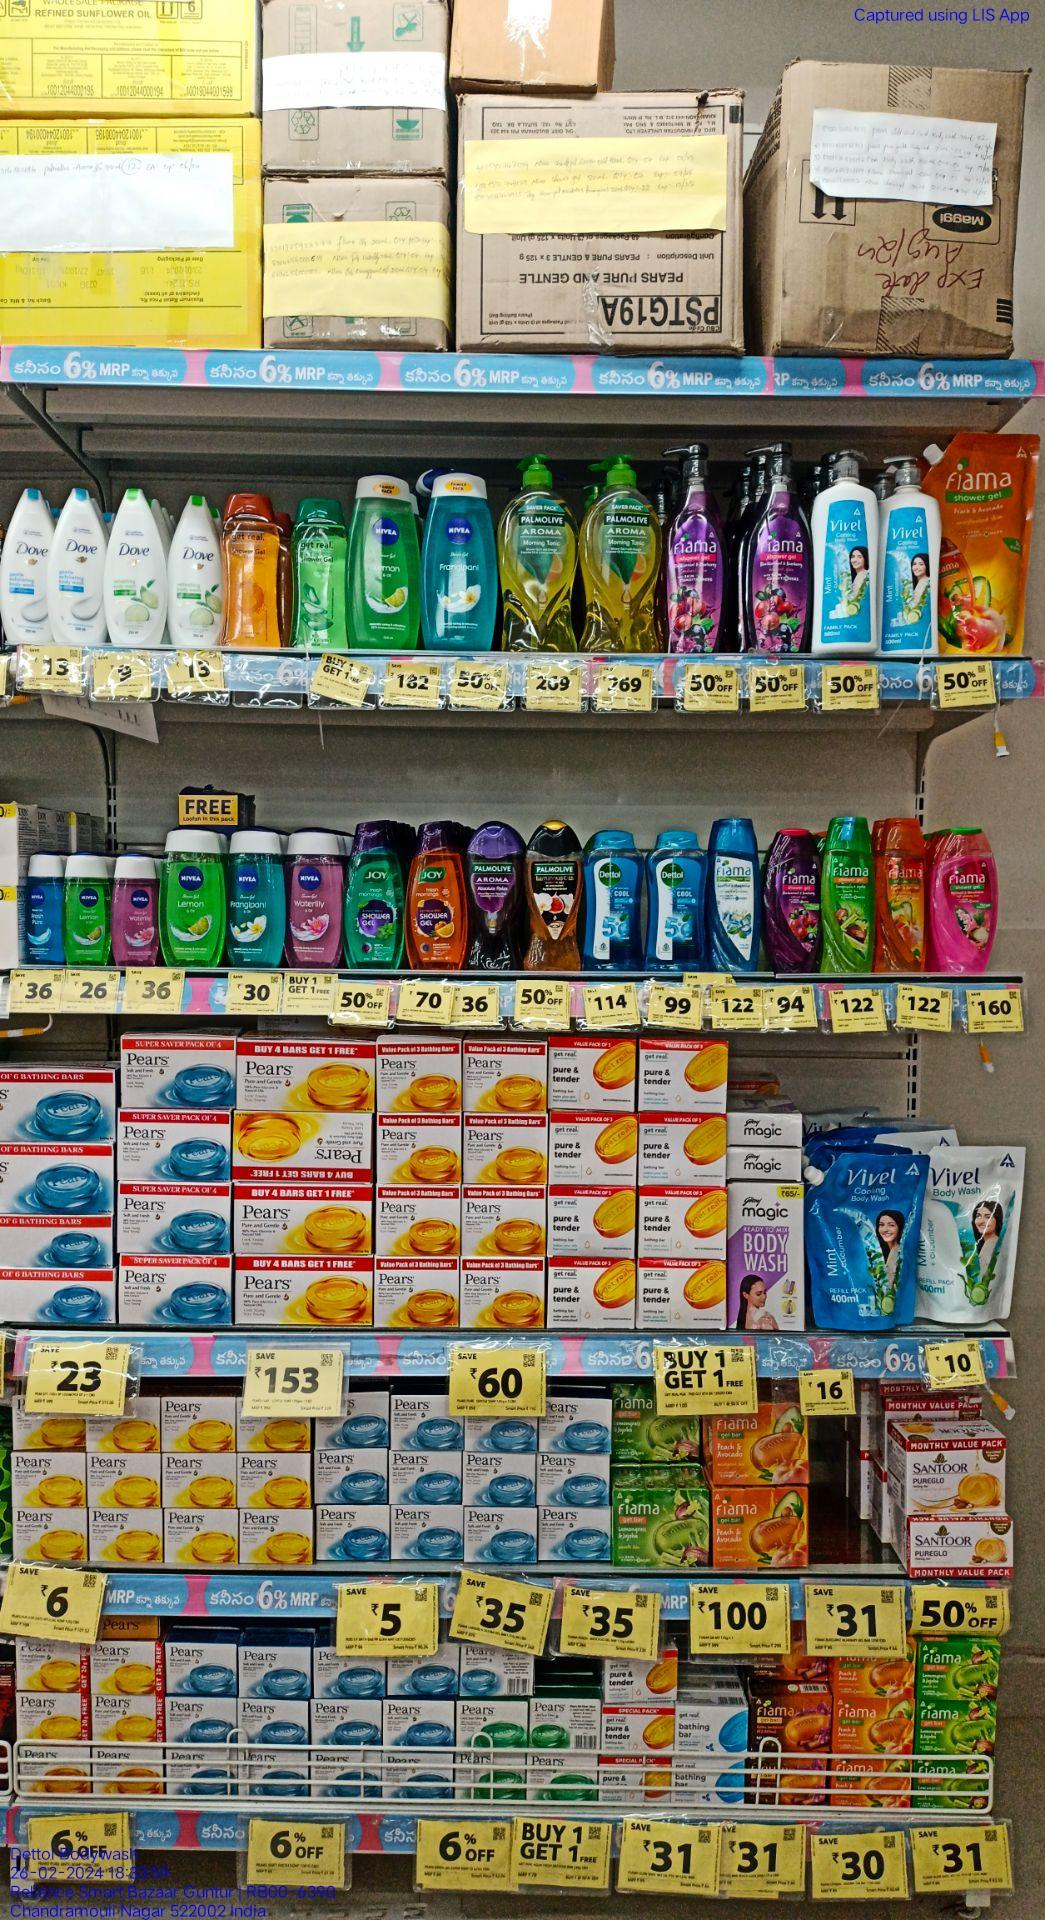Dettol_Bodywash_Cool: (588, 827, 646, 974), (654, 829, 704, 972)
Dove_Gentle_Exfoliating_Body_Wash_250ML: (55, 485, 106, 646), (4, 484, 51, 646)
Dove_Refreshing_Body_Wash_250ML: (109, 484, 166, 647), (171, 492, 221, 651)
Fiama_Shower_Gel_Lemongrass_and_Jojoba_250ML: (825, 808, 873, 977)
Fiama_Shower_Gel_Patchouli_and_Macadamia_250ML: (936, 825, 996, 974)
Fiama_Shower_Gel_Peach_and_Avocado_250ML: (874, 815, 927, 974)
Get_Real_Shower_Gel_Moisturising_Glycerin_300ML: (225, 489, 281, 652)
Joy_Shower_Gel_Mandarin_and_Lemongrass_250ML: (408, 820, 465, 972)
Joy_Shower_Gel_Mint_and_Eucalyptus_250ML: (349, 818, 400, 974)
Nivea_Shower_Gel_Frangipani_and_Oil_250ML: (427, 471, 494, 652), (228, 827, 283, 969)
Nivea_Shower_Gel_Lemon_and_Oil_250ML: (350, 472, 418, 651), (162, 830, 224, 969)
Nivea_Shower_Gel_Waterlily_and_Oil_250ML: (287, 827, 340, 974)
Palmolive_Aroma_Relax_250ML: (468, 822, 524, 970)
Palmolive_Luminous_Oils_With_White_Orchid_Shower_Gel_250ML: (529, 821, 583, 974)
